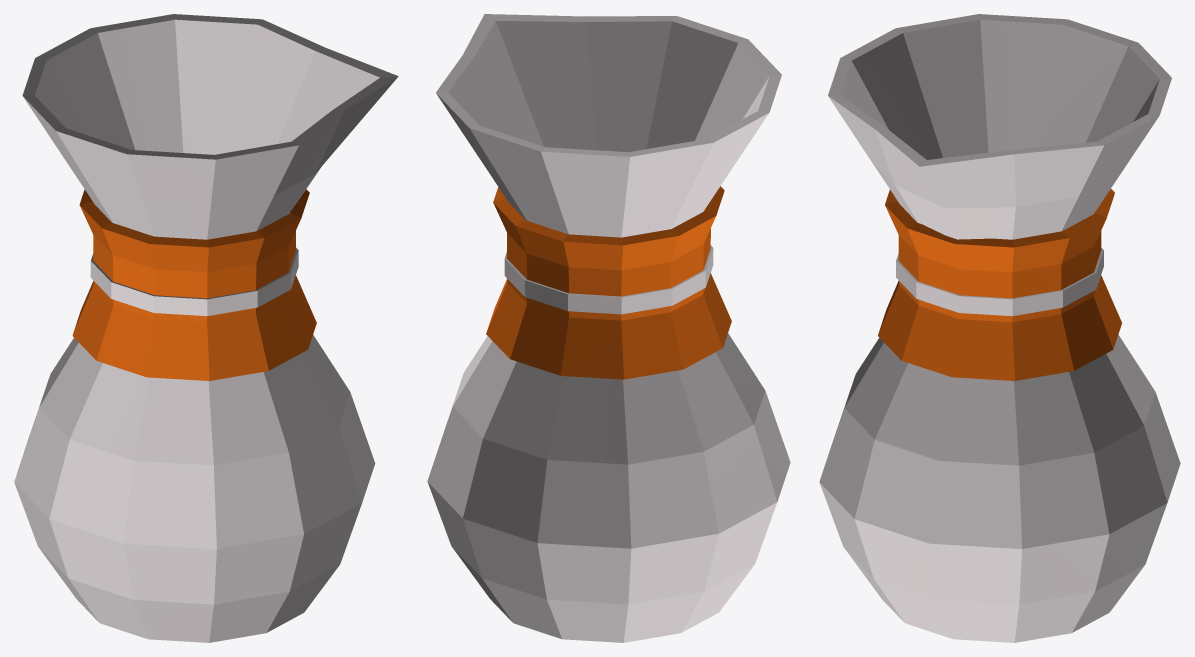
Rendered from Vase 2.fbx.
The picture shows the model from 3 angles, left to right: view 1: azimuth 30°, elevation 25°; view 2: azimuth 150°, elevation 25°; view 3: azimuth 270°, elevation 25°; orthographic projection.
Visible parts, largest first — view 1: Node 0; view 2: Node 0; view 3: Node 0.
Boxes of the visible parts, bbox=[...] form: Node 0: bbox=[14, 14, 398, 642]; Node 0: bbox=[427, 14, 790, 642]; Node 0: bbox=[819, 14, 1180, 642].
Size of the model in its own units: 0.3041 by 0.4701 by 0.3113.
